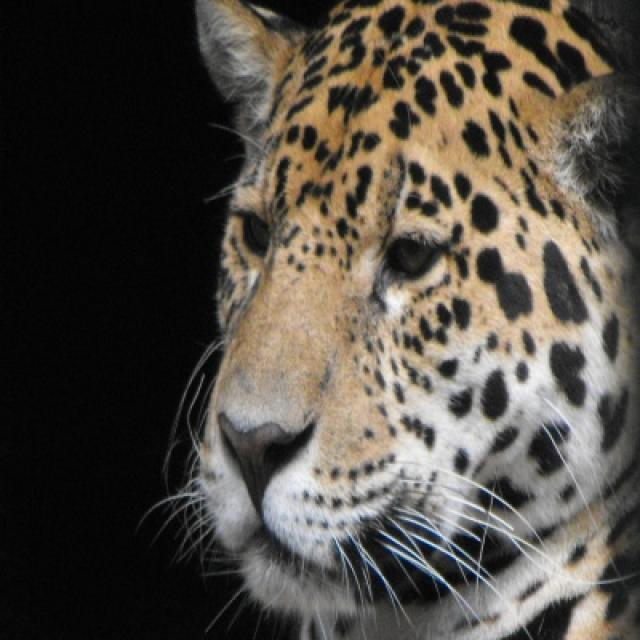Jaguar: (155, 0, 638, 638)
